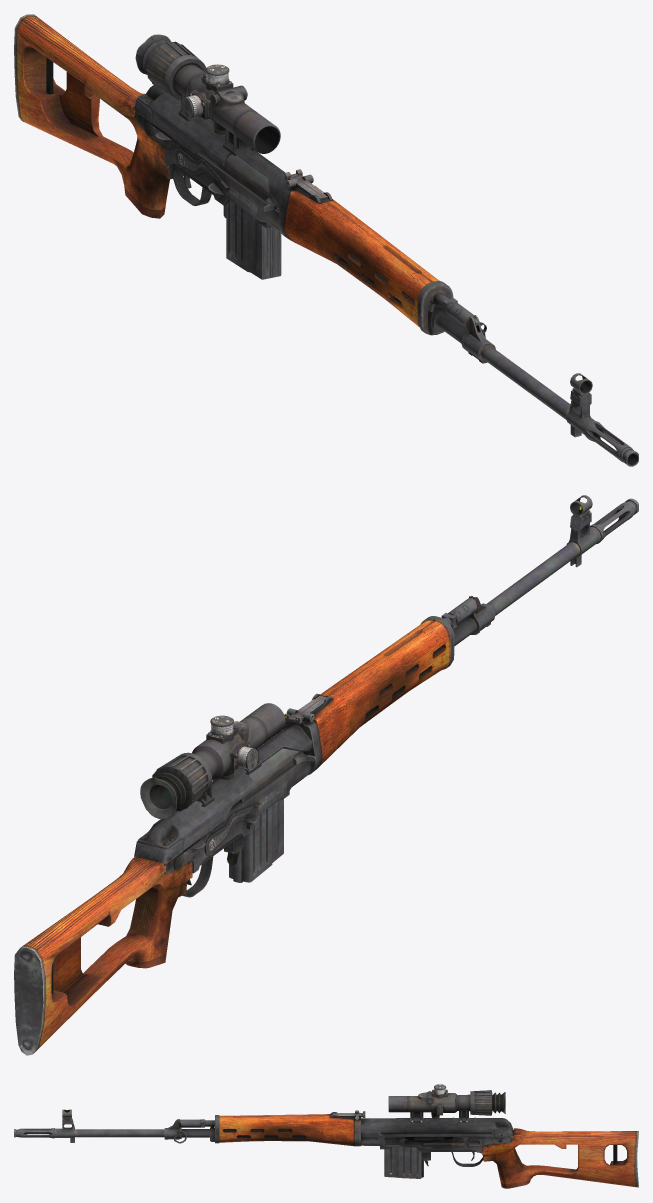
File: SVD.fbx
The picture shows the model from 3 angles, top to bottom: view 1: azimuth 30°, elevation 25°; view 2: azimuth 150°, elevation 25°; view 3: azimuth 270°, elevation 25°; orthographic projection. The views are drawn at different scales.
Parts seen in each view (by area): view 1: Mesh_0009, Mesh_0017, MAG, BOLT; view 2: Mesh_0009, Mesh_0017, MAG, BOLT; view 3: Mesh_0009, Mesh_0017, MAG.
Part boxes in pixels (x1,y1,x2,y2): Mesh_0009: [14, 14, 638, 466]; Mesh_0017: [135, 34, 280, 156]; MAG: [226, 175, 281, 279]; BOLT: [216, 154, 278, 211]; Mesh_0009: [14, 495, 638, 1055]; Mesh_0017: [140, 703, 285, 819]; MAG: [229, 787, 283, 882]; BOLT: [238, 748, 315, 802]; Mesh_0009: [14, 1109, 638, 1188]; Mesh_0017: [388, 1084, 505, 1122]; MAG: [384, 1147, 423, 1178].
Bounding box in the file's own units: 6.07 × 21.82 × 122.
Materials: 4 (4 with a texture image).
